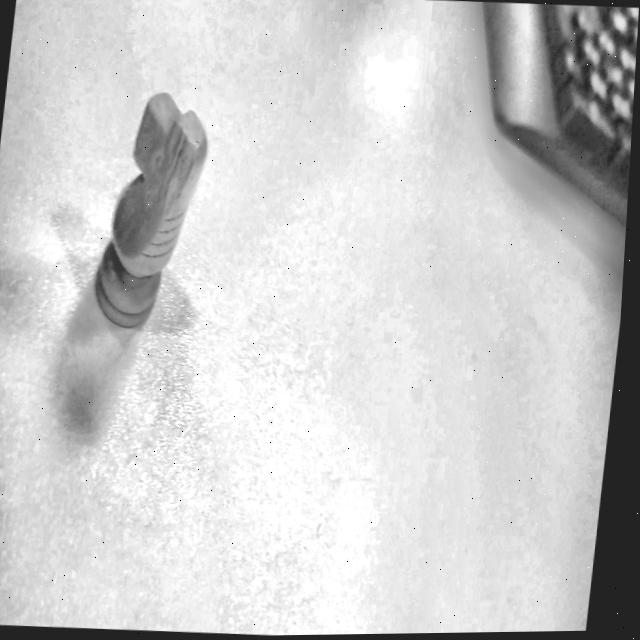white-knight: (94, 92, 207, 327)
